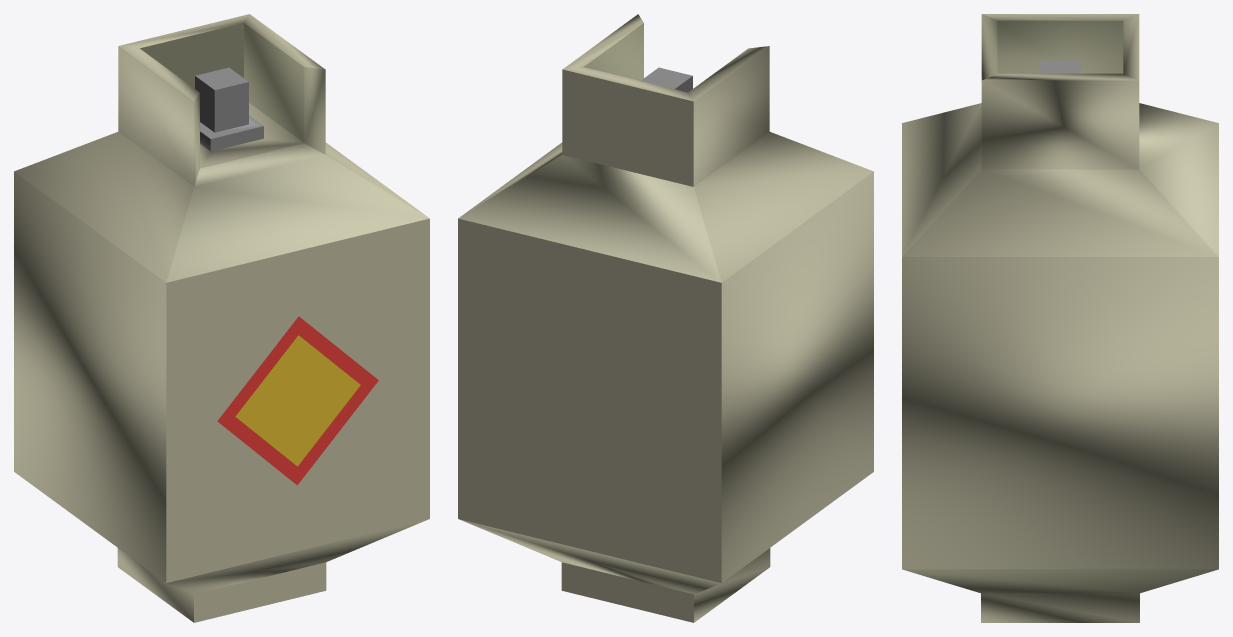
File: apoc_prop_38.glb
The picture shows the model from 3 angles, left to right: view 1: azimuth 30°, elevation 25°; view 2: azimuth 150°, elevation 25°; view 3: azimuth 270°, elevation 25°; orthographic projection. The views are drawn at different scales.
Visible parts, largest first — view 1: prop_040; view 2: prop_040; view 3: prop_040.
Boxes of the visible parts, x1,y1,x2,y2 form: prop_040: (14, 14, 429, 622); prop_040: (458, 14, 873, 622); prop_040: (902, 14, 1218, 622).
Size of the model in its own units: 0.0654 by 0.1234 by 0.0654.
Materials: 1 (1 with a texture image).
